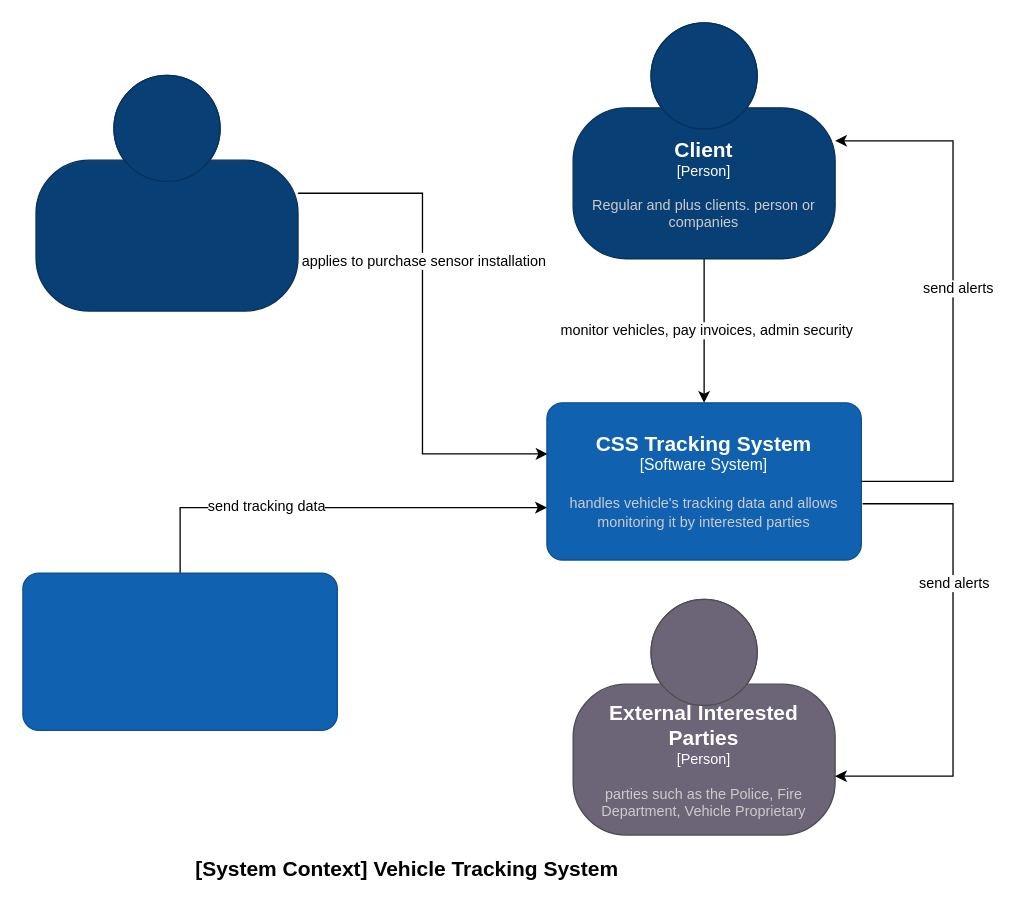
This 1015x924 diagram has some shape labels left out. Each missing label, with the box of its shape:
Prospective Client [Person]: (35, 74, 298, 311)
Vehicle System [Software System] Vehicles with sensors, cameras, panic button: (22, 572, 337, 730)
